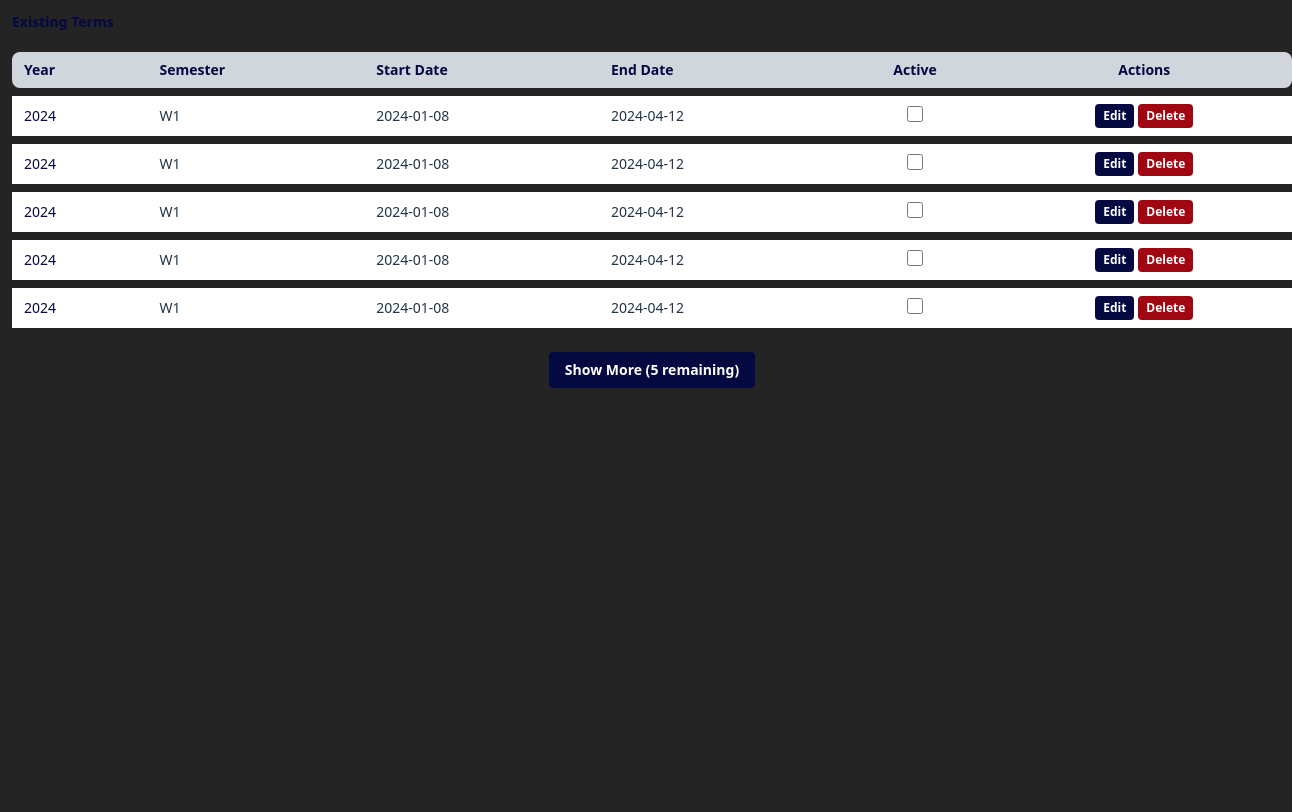
Test: ExistingTermsTable › shows more semesters when Show More is clicked
Click the button "Show More (5 remaining)" at (652, 370), box [549,352,755,388]
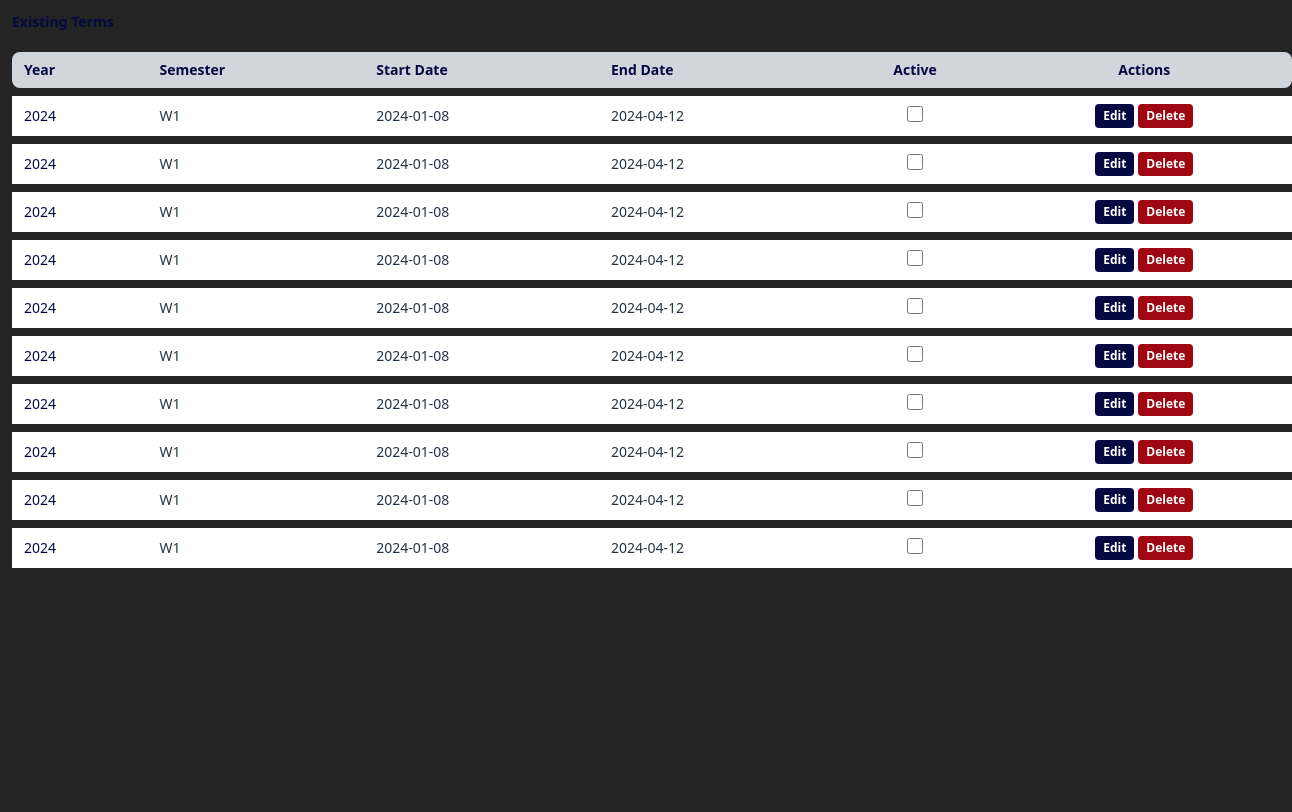
Expected: the button "Show More" is gone
